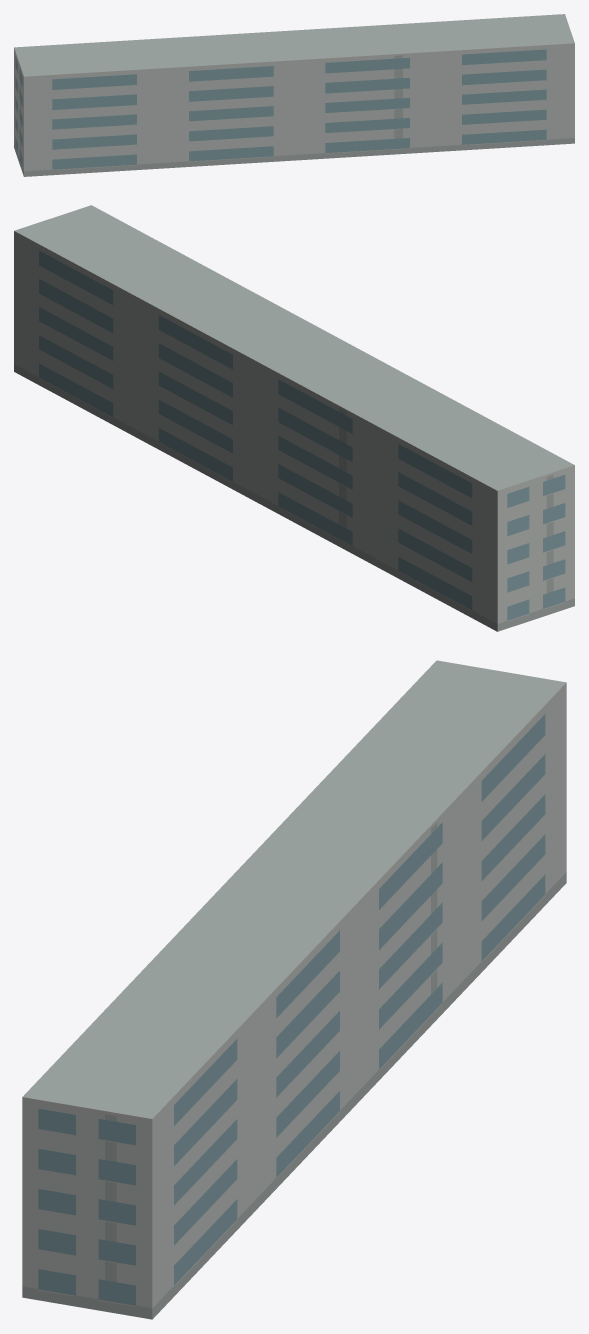
Rendered from residential-414f4ad7-c837-42d6-9424-b1c5b1d0541e.glb.
The picture shows the model from 3 angles, top to bottom: view 1: azimuth 30°, elevation 25°; view 2: azimuth 150°, elevation 25°; view 3: azimuth 270°, elevation 25°; orthographic projection. The views are drawn at different scales.
Parts seen in each view (by area): view 1: residential-414f4ad7-c837-42d6-9424-b1c5b1d0541e.tmp; view 2: residential-414f4ad7-c837-42d6-9424-b1c5b1d0541e.tmp; view 3: residential-414f4ad7-c837-42d6-9424-b1c5b1d0541e.tmp.
Part boxes in pixels (x1,y1,x2,y2): residential-414f4ad7-c837-42d6-9424-b1c5b1d0541e.tmp: (14,14,574,176); residential-414f4ad7-c837-42d6-9424-b1c5b1d0541e.tmp: (14,205,574,631); residential-414f4ad7-c837-42d6-9424-b1c5b1d0541e.tmp: (22,660,566,1319).
Size of the model in its own units: 74.82 by 15.25 by 37.53.
